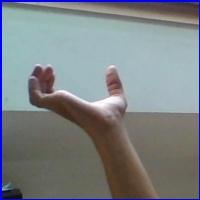B: (21, 57, 134, 132)
